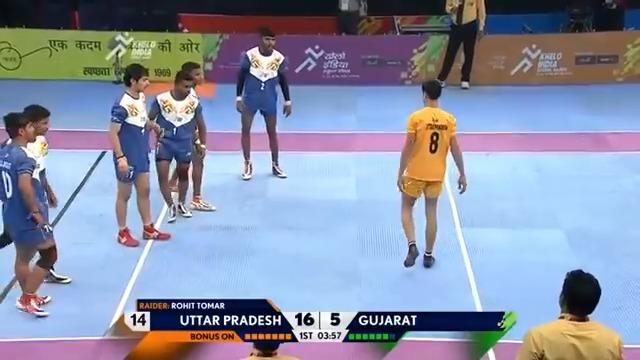Player: (107, 62, 171, 247), (0, 111, 53, 317), (515, 268, 624, 359), (147, 67, 206, 222), (234, 25, 292, 179), (435, 0, 486, 89)
Raider: (396, 78, 467, 268)
referee: (560, 0, 597, 32), (336, 0, 367, 35)
